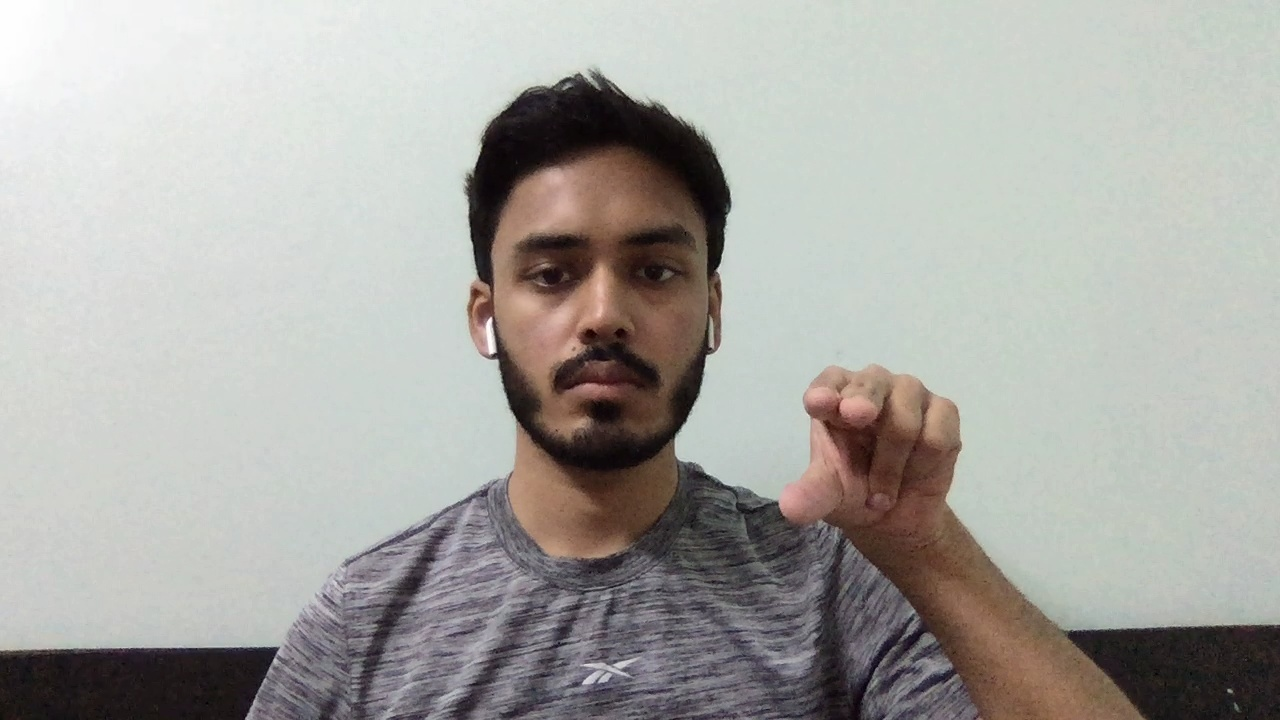No: (766, 352, 985, 541)
